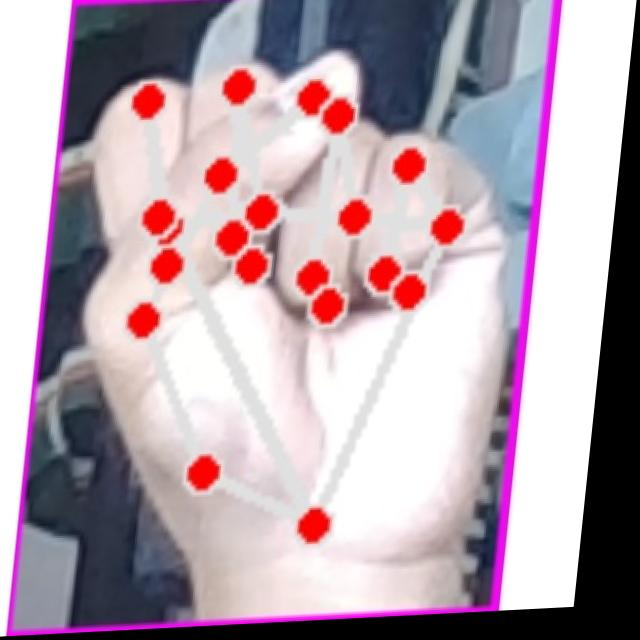S: (43, 48, 539, 580)
